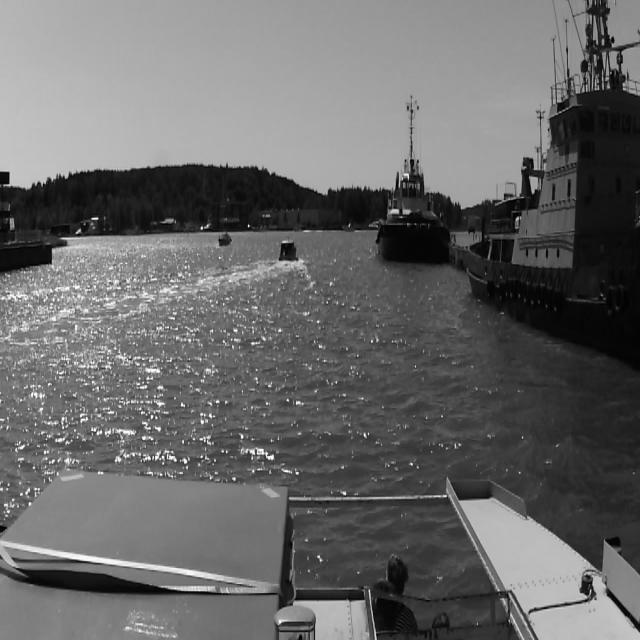ship: (465, 0, 639, 357), (375, 93, 447, 263), (278, 236, 297, 262), (218, 233, 232, 246), (343, 223, 355, 232)
